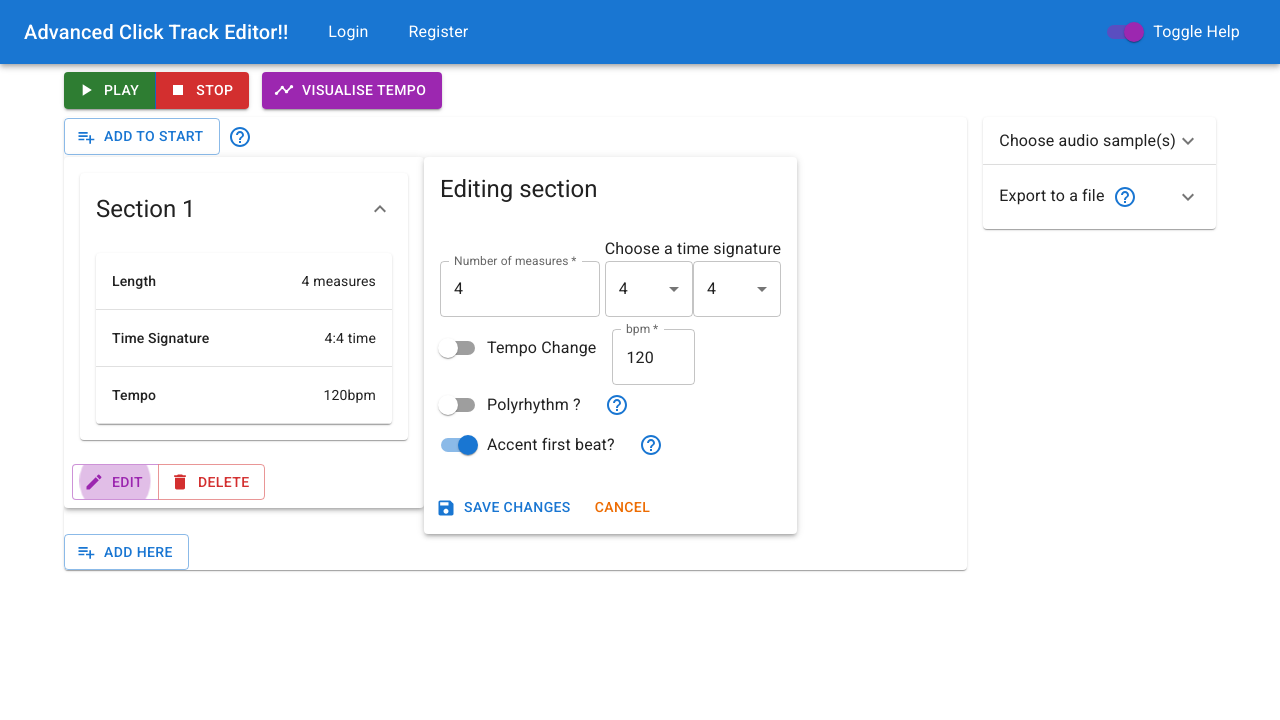
Test: Clicktrack app › User can change the number of measures of a section
The width and height of the screenshot is (1280, 720).
Type "6" into the element with class "num-measures-input" at (520, 289), box [440,261,600,317]
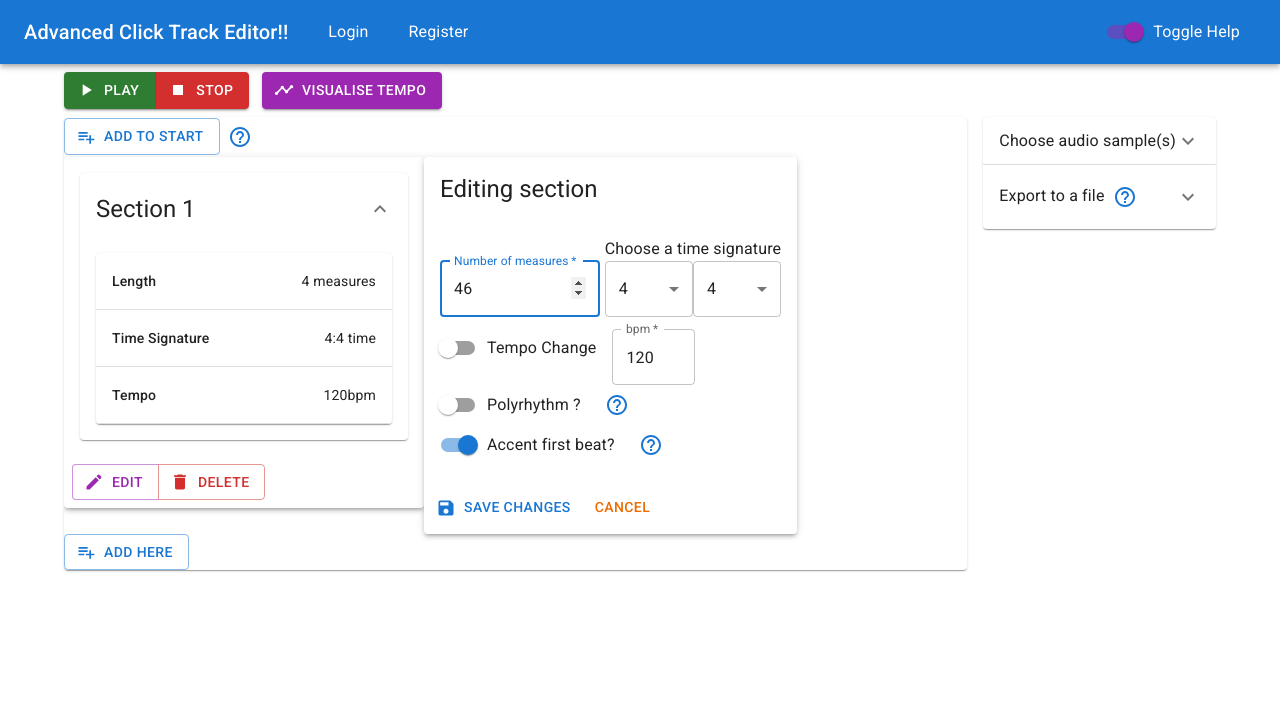
Click the button with class "section-form-submit" at (506, 508), box [432,489,579,526]
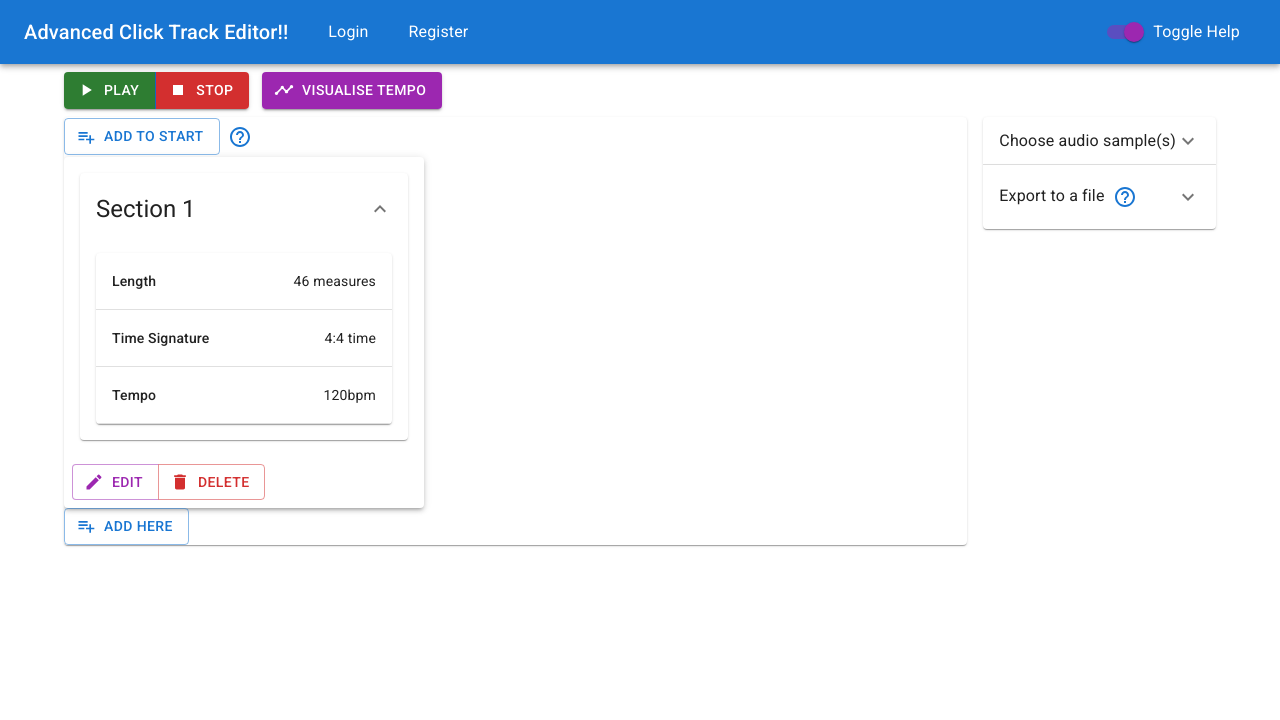
expect the text "6 measures" is shown: met, box [253,253,392,310]
